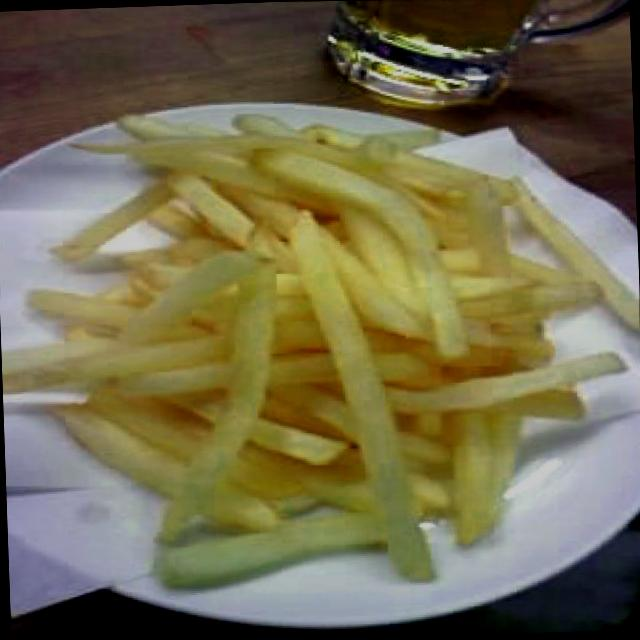French Fries: (51, 100, 622, 582)
